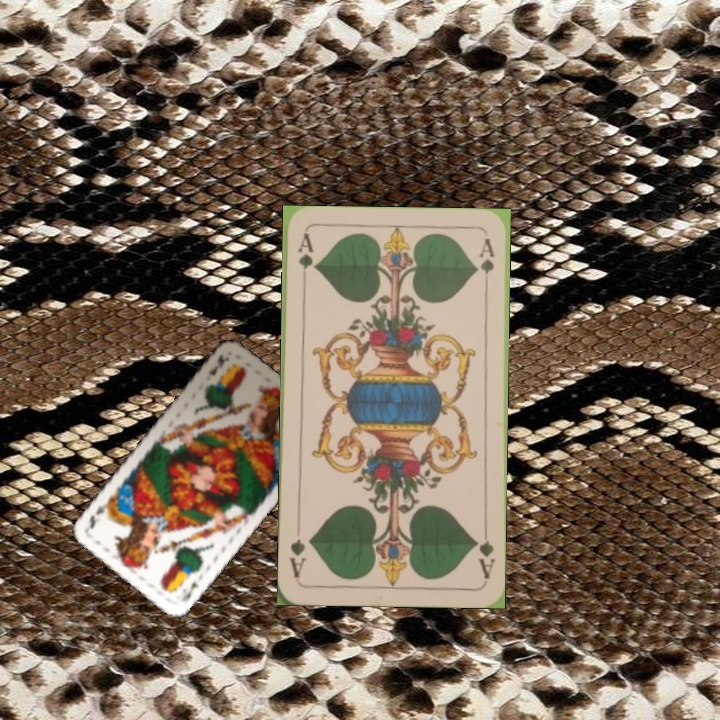EK: (204, 349, 232, 379), (178, 578, 202, 605)
GA: (470, 523, 497, 581), (294, 230, 316, 289)
